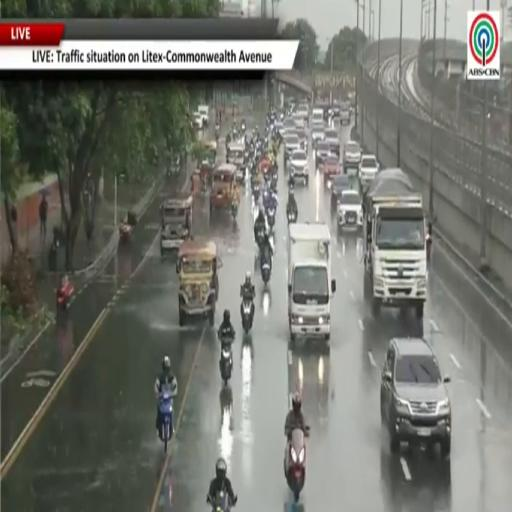car: (381, 339, 451, 457), (337, 189, 362, 231), (331, 174, 351, 210), (290, 150, 309, 185), (359, 155, 379, 187), (321, 155, 340, 186), (343, 141, 361, 169), (284, 132, 300, 162), (315, 140, 330, 168), (325, 128, 339, 155), (311, 122, 325, 148), (296, 130, 308, 153), (310, 106, 325, 124), (197, 105, 209, 127), (340, 102, 351, 124), (283, 118, 295, 136), (297, 104, 308, 121), (294, 112, 305, 129), (194, 112, 203, 130), (331, 103, 340, 120), (274, 121, 284, 136)
jeepney: (177, 240, 221, 326), (161, 195, 193, 255), (210, 164, 236, 216), (198, 141, 217, 186), (228, 142, 245, 184), (203, 141, 217, 166)
motorcycle: (285, 427, 308, 502), (159, 390, 173, 452), (207, 491, 237, 511), (220, 340, 232, 386), (57, 279, 74, 311), (242, 299, 254, 334), (119, 222, 132, 245), (261, 260, 271, 285), (267, 208, 275, 230), (287, 209, 298, 224), (256, 229, 264, 248), (231, 200, 238, 221), (253, 185, 260, 202), (271, 175, 277, 193), (215, 124, 220, 140), (241, 123, 246, 133)
truck: (363, 168, 427, 318), (288, 222, 335, 343), (288, 348, 330, 435), (195, 105, 209, 129)
